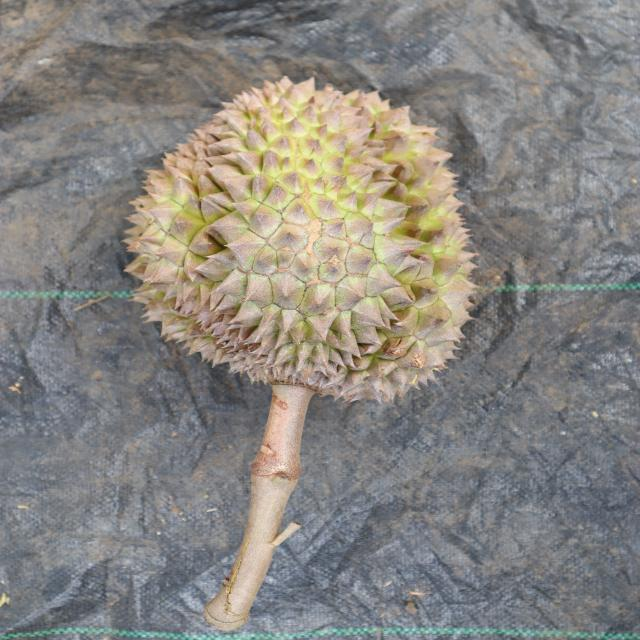mature: (117, 76, 478, 402)
